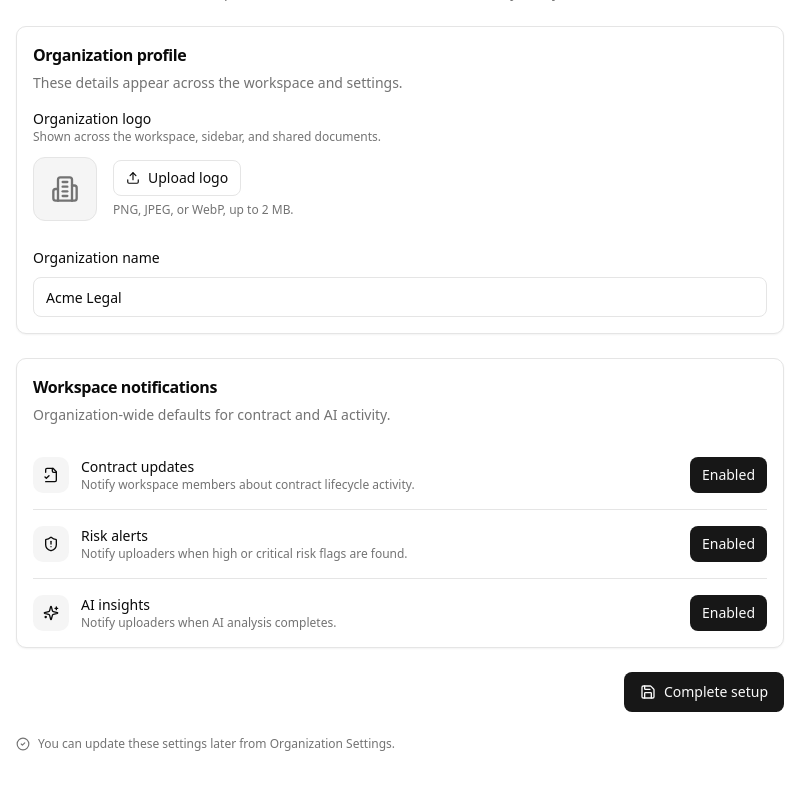
Test: OrganizationOnboarding › shows an error when completion fails
(page scrolled)
Click the button "Complete setup" at (704, 692), box [624,672,784,712]
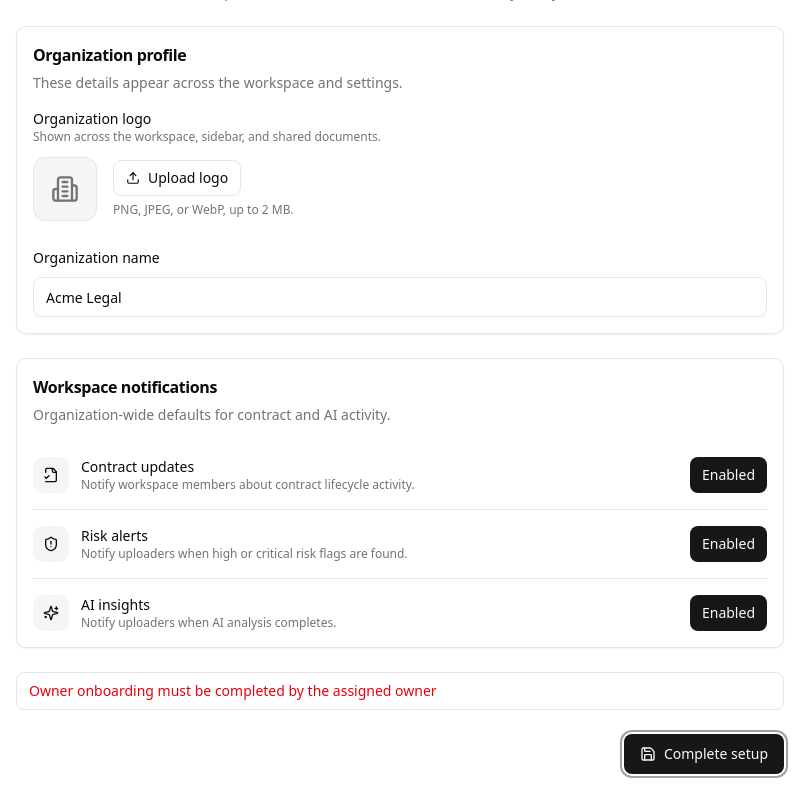
Expected: the text "Owner onboarding must be completed by the assigned owner" is shown, [16,672,784,710]
